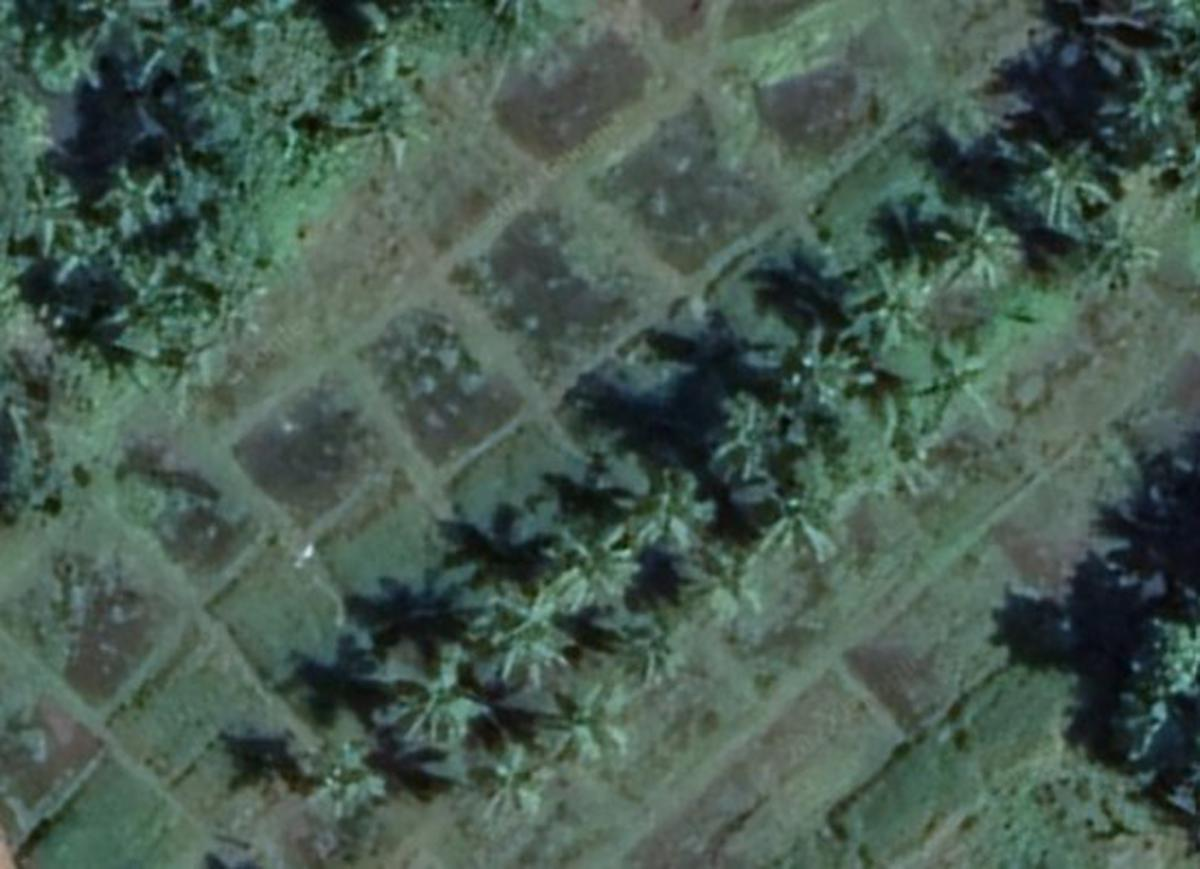coconut: (370, 642, 500, 748), (704, 384, 809, 491), (925, 201, 1033, 296), (833, 258, 932, 359), (473, 579, 563, 689), (1015, 140, 1114, 239), (754, 493, 857, 583), (774, 326, 866, 419), (98, 256, 190, 346), (1105, 50, 1193, 144), (616, 465, 704, 557), (537, 522, 634, 599), (344, 87, 427, 171), (469, 735, 552, 818), (541, 678, 627, 752), (684, 539, 761, 618), (96, 164, 177, 239), (324, 752, 401, 827), (1085, 223, 1153, 291), (19, 166, 72, 250), (620, 625, 684, 680)
